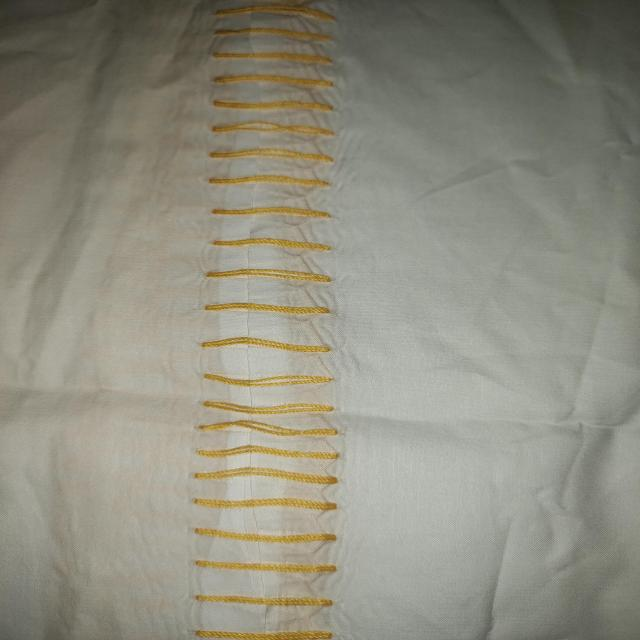gray stitch: (188, 0, 348, 640)
